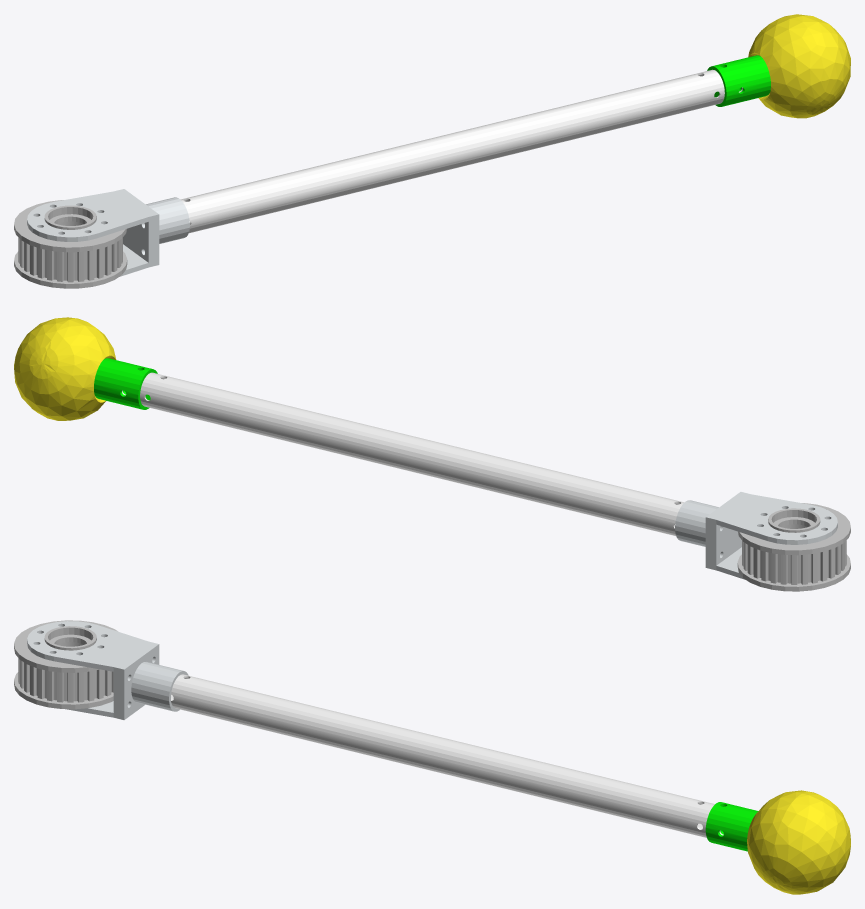
File: lower_leg.dae
3 renders of one model, top to bottom at view 1: azimuth 30°, elevation 25°; view 2: azimuth 150°, elevation 25°; view 3: azimuth 330°, elevation 25°, orthographic.
Visible parts, largest first — view 1: node0, node2, node4, node6, node5, node1, node3, node7; view 2: node0, node2, node4, node6, node5, node1, node3, node7; view 3: node0, node2, node4, node3, node6, node5, node1, node7.
Part boxes in pixels (x1,y1,x2,y2): node0: (180,69,742,233); node2: (748,14,850,118); node4: (27,190,152,276); node6: (18,221,122,282); node5: (14,200,126,252); node1: (707,55,770,106); node3: (118,189,189,266); node7: (14,251,127,288); node0: (122,372,684,535); node2: (14,317,116,420); node4: (712,493,837,579); node6: (742,524,846,584); node5: (738,503,850,555); node1: (94,358,157,409); node3: (675,492,746,569); node7: (737,554,850,591); node0: (171,674,723,837); node2: (747,790,850,894); node4: (27,621,152,718); node3: (118,642,188,719); node6: (18,642,113,702); node5: (14,620,117,672); node1: (705,802,758,851); node7: (14,672,113,709).
Bounding box in the file's own units: 0.5445 × 0.0645 × 0.0596.
